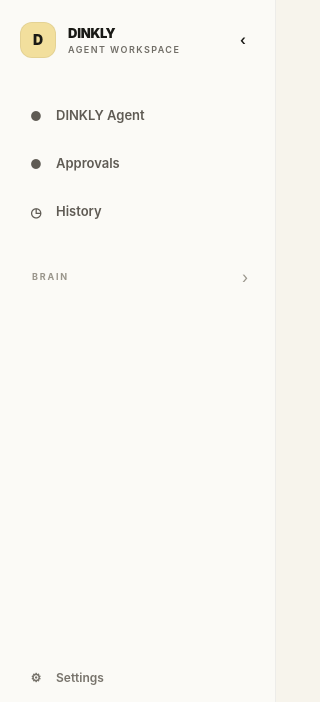
navigation › keeps the focused workflow as compact desktop navigation
The width and height of the screenshot is (320, 702).
Click the button named "Collapse sidebar". click: (243, 40)
box: left=227, top=24, right=259, bottom=56
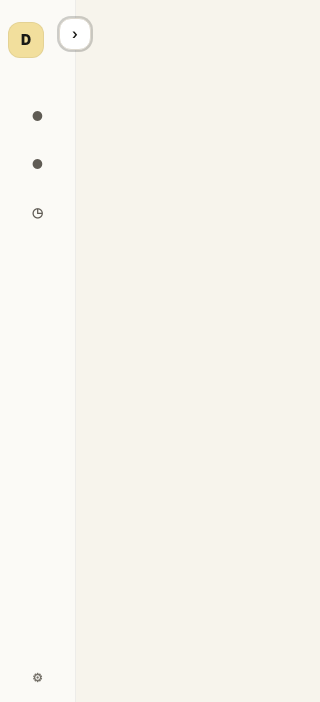
Expected: the 1st link titled "DINKLY Agent" is shown, left=32, top=108, right=43, bottom=124
Result: the button named "Expand sidebar" is shown at left=59, top=18, right=91, bottom=50
